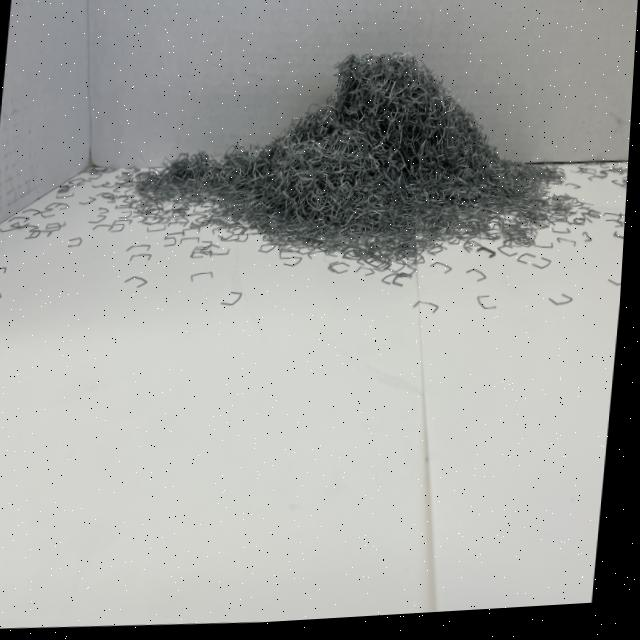staples: (124, 28, 575, 282)
